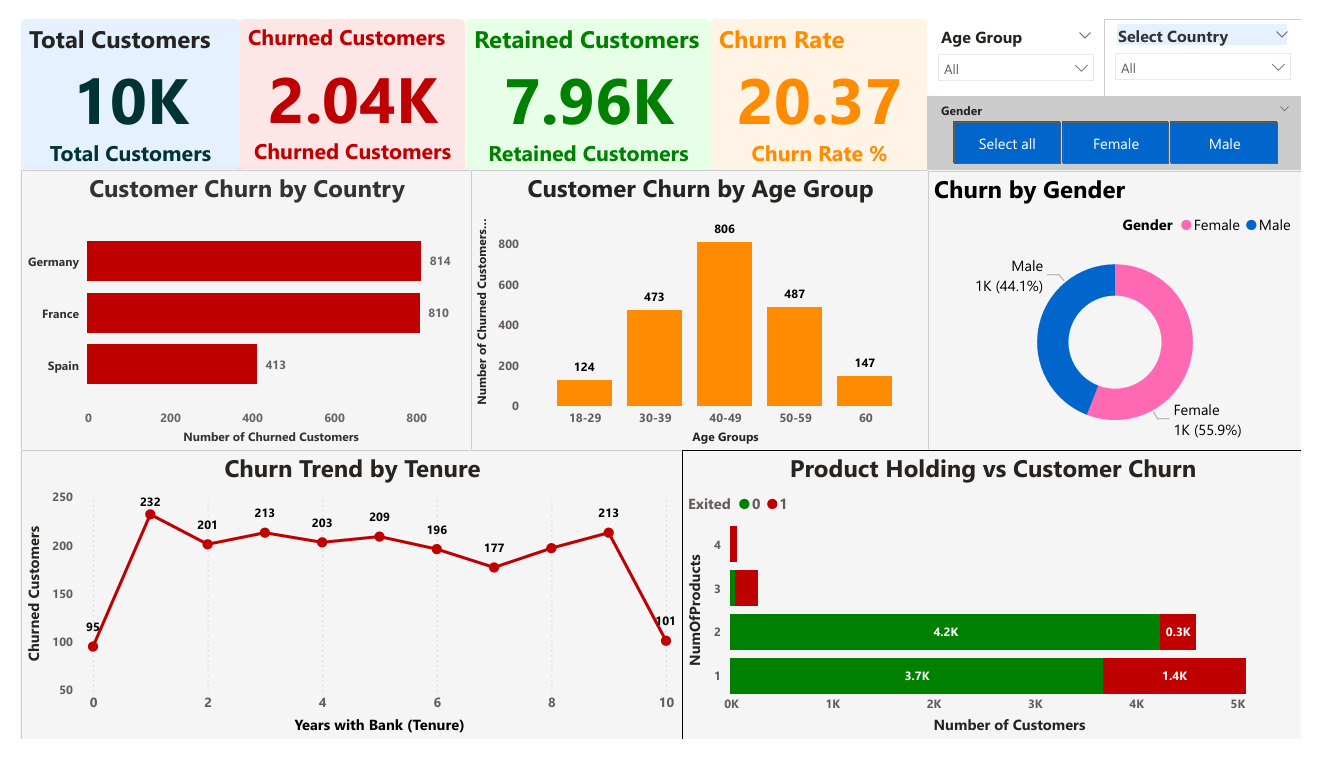

Layout of this report page (visuals, bound fields, positions):
{"tool":"powerbi","page":{"name":"Page 1","canvas":[1280,720],"ordinal":0},"visuals":[{"type":"card","title":"Total Customers","fields":{"Values":["Churn_Modelling.Total Customers"]},"box":[0,0,218.6,150.6],"z":0},{"type":"card","title":"Churned Customers","fields":{"Values":["Churn_Modelling.Churned Customers"]},"box":[218.6,0,225.1,150.6],"z":1000},{"type":"card","title":"Retained Customers","fields":{"Values":["Churn_Modelling.Retained Customers"]},"box":[445.3,0,244.5,150.6],"z":2000},{"type":"card","title":"Churn Rate","fields":{"Values":["Churn_Modelling.Churn Rate %"]},"box":[689.8,0,217,150.6],"z":3000},{"type":"barChart","title":"Customer Churn by Country","fields":{"Category":["Churn_Modelling.Geography"],"Y":["CountNonNull(Churn_Modelling.CustomerId)"]},"box":[0,150.6,450,280],"z":4000},{"type":"clusteredColumnChart","title":"Customer Churn by Age Group","fields":{"Category":["Churn_Modelling.Age Group"],"Y":["CountNonNull(Churn_Modelling.CustomerId)"]},"box":[450.1,150.6,456.6,280.1],"z":5000},{"type":"donutChart","title":"Churn by Gender","fields":{"Category":["Churn_Modelling.Gender"],"Y":["CountNonNull(Churn_Modelling.CustomerId)"]},"box":[906.8,152.2,374,278.5],"z":6000},{"type":"lineChart","title":"Churn Trend by Tenure","fields":{"Category":["Churn_Modelling.Tenure"],"Y":["CountNonNull(Churn_Modelling.CustomerId)"]},"box":[0,430.7,660.6,289.8],"z":7000},{"type":"barChart","title":"Product Holding vs Customer Churn","fields":{"Category":["Churn_Modelling.NumOfProducts"],"Y":["CountNonNull(Churn_Modelling.CustomerId)"],"Series":["Churn_Modelling.Exited"]},"box":[660.6,430.7,620.2,289.8],"z":8000},{"type":"slicer","fields":{"Values":["Churn_Modelling.Geography"]},"box":[1083.3,0,197.5,77.7],"z":9000},{"type":"slicer","fields":{"Values":["Churn_Modelling.Gender"]},"box":[906.8,77.7,374,74.5],"z":10000},{"type":"slicer","fields":{"Values":["Churn_Modelling.Age Group"]},"box":[906.8,1.6,176.5,74.5],"z":11000}]}

Visuals, with their boxes in screenshot pixels (x1, y1, x2, y2), scaled from the page's 1280x720 canvas onto the 1318x761 screenshot:
"Total Customers" card: box(0, 0, 225, 159)
"Churned Customers" card: box(225, 0, 457, 159)
"Retained Customers" card: box(459, 0, 710, 159)
"Churn Rate" card: box(710, 0, 934, 159)
"Customer Churn by Country" barChart: box(0, 159, 463, 455)
"Customer Churn by Age Group" clusteredColumnChart: box(463, 159, 934, 455)
"Churn by Gender" donutChart: box(934, 161, 1317, 455)
"Churn Trend by Tenure" lineChart: box(0, 455, 680, 760)
"Product Holding vs Customer Churn" barChart: box(680, 455, 1317, 760)
slicer - Churn_Modelling.Geography: box(1115, 0, 1317, 82)
slicer - Churn_Modelling.Gender: box(934, 82, 1317, 161)
slicer - Churn_Modelling.Age Group: box(934, 2, 1115, 80)
